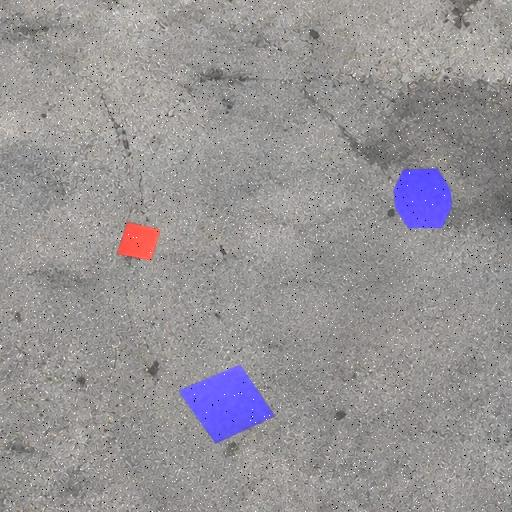BLUE_SQUARE: (178, 364, 276, 445)
RED_SQUARE: (116, 222, 161, 260)
